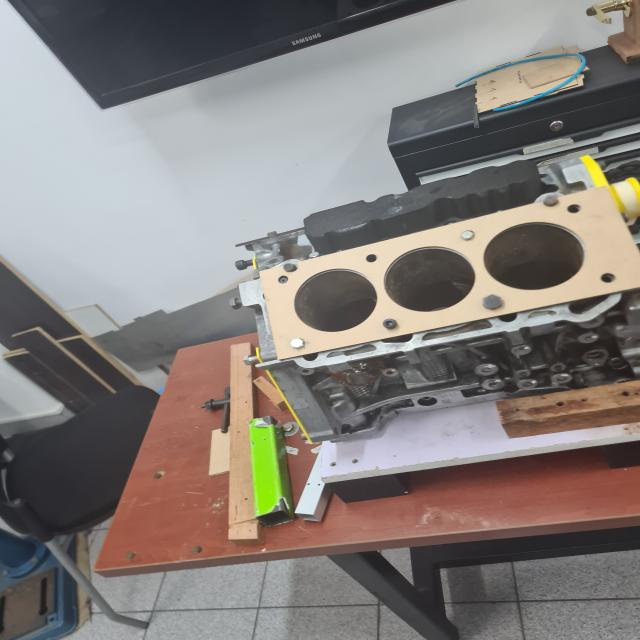vista1: (259, 186, 640, 360)
